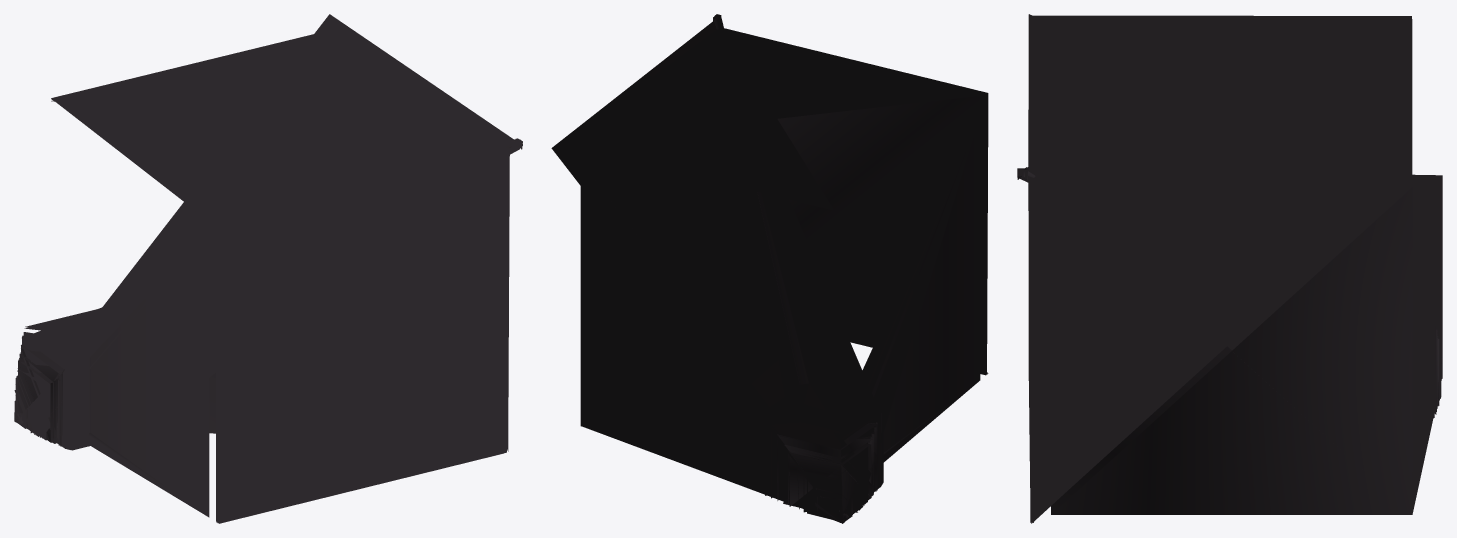
3 views of the same model, side by side, from view 1: azimuth 30°, elevation 25°; view 2: azimuth 150°, elevation 25°; view 3: azimuth 270°, elevation 25° (orthographic). The views are drawn at different scales.
Parts seen in each view (by area): view 1: Final; view 2: Final; view 3: Final.
Boxes of the visible parts, x1,y1,x2,y2 form: Final: [14, 14, 522, 523]; Final: [551, 14, 988, 523]; Final: [1017, 14, 1442, 523].
Size of the model in its own units: 7.4e-42 by 7.4e-42 by 7.4e-42.
